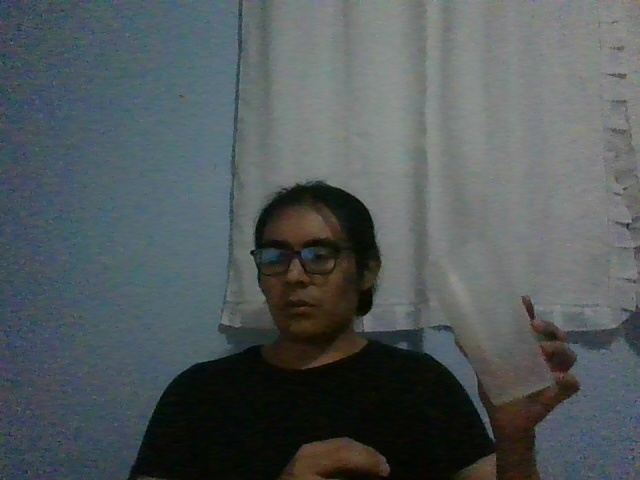vaso: (422, 245, 554, 408)
